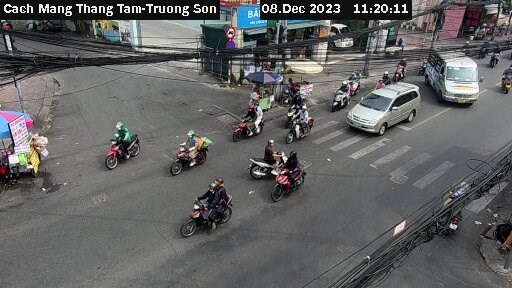car: (347, 82, 422, 134), (425, 47, 481, 110)
motorbike: (182, 186, 239, 239), (169, 135, 218, 173), (97, 133, 157, 160), (268, 162, 309, 198), (230, 111, 268, 141), (251, 149, 285, 179), (286, 116, 320, 143), (328, 80, 355, 113), (338, 66, 365, 94), (371, 66, 393, 97), (279, 98, 306, 121), (388, 57, 410, 84), (495, 66, 512, 94), (484, 49, 505, 70)
